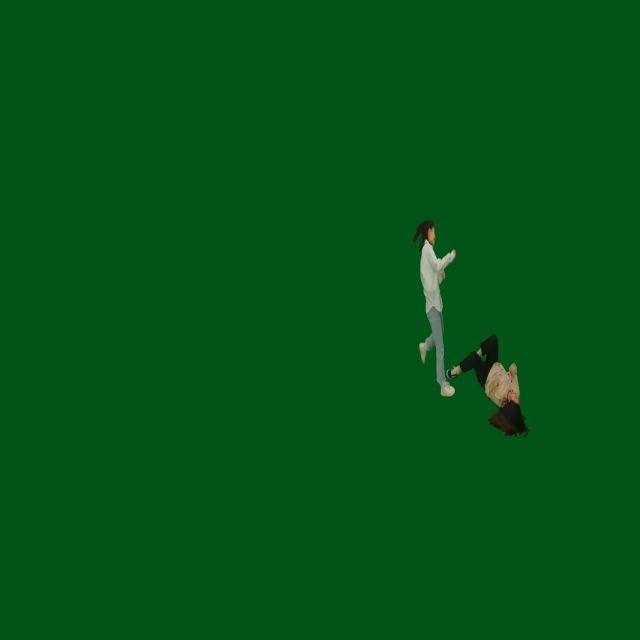fight: (412, 214, 532, 442)
